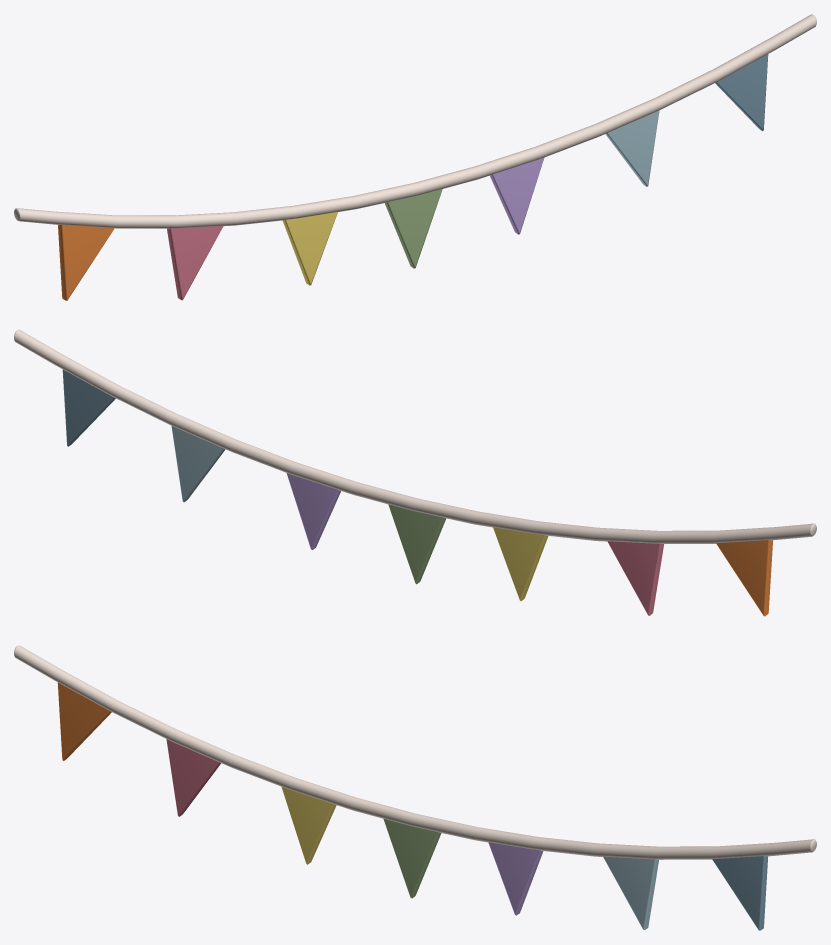
The model's file is Frame_8.glb.
3 views of the same model, one above another, from view 1: azimuth 30°, elevation 25°; view 2: azimuth 150°, elevation 25°; view 3: azimuth 330°, elevation 25° (orthographic).
Visible parts, largest first — view 1: Flags_1; view 2: Flags_1; view 3: Flags_1.
Part boxes in pixels (<box>): Flags_1: <box>14,14,816,300</box>; Flags_1: <box>14,329,816,616</box>; Flags_1: <box>14,645,816,930</box>.
Size of the model in its own units: 4.95 by 0.9216 by 0.0731.
1 material, 1 textured.
